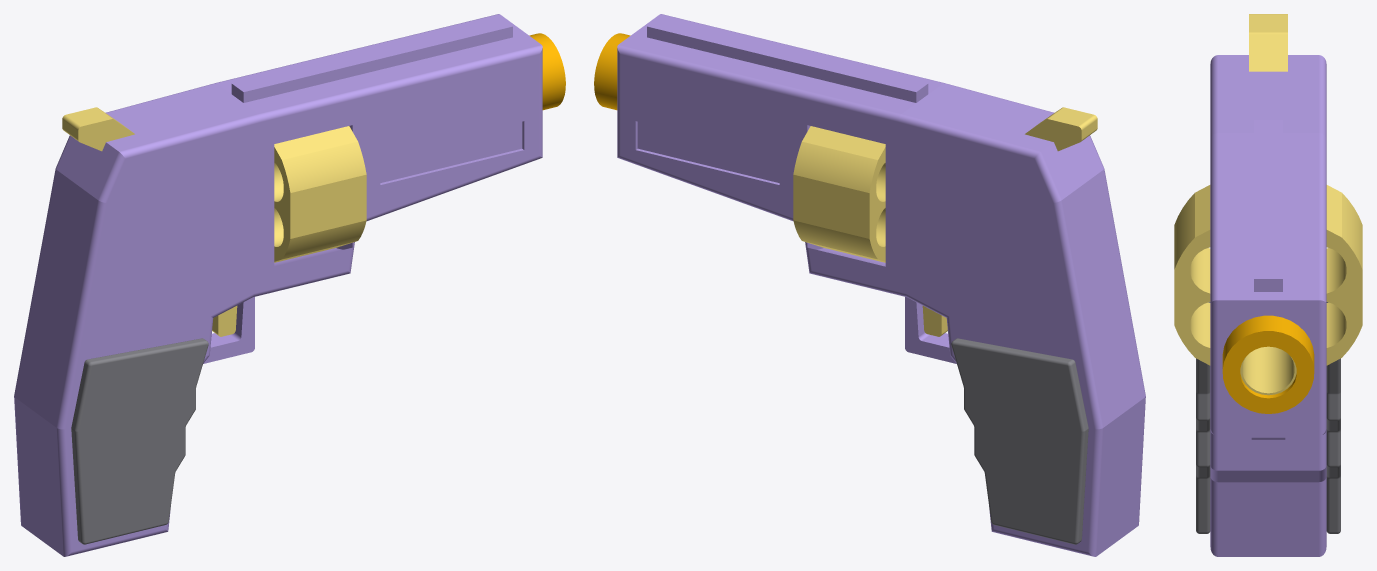
3 renders of one model, left to right at view 1: azimuth 30°, elevation 25°; view 2: azimuth 150°, elevation 25°; view 3: azimuth 270°, elevation 25°, orthographic. The views are drawn at different scales.
Visible parts, largest first — view 1: telaio, =>[0:1:1:11], =>[0:1:1:3], =>[0:1:1:15], =>[0:1:1:13], =>[0:1:1:19]; view 2: telaio, =>[0:1:1:8], =>[0:1:1:3], =>[0:1:1:15], =>[0:1:1:13], =>[0:1:1:19]; view 3: telaio, =>[0:1:1:3], =>[0:1:1:19], =>[0:1:1:8], =>[0:1:1:11], =>[0:1:1:15], =>[0:1:1:5].
Boxes of the visible parts, box(x1,y1,x2,y2) form: telaio: box(14, 14, 542, 556); =>[0:1:1:11]: box(71, 338, 208, 544); =>[0:1:1:3]: box(274, 126, 366, 262); =>[0:1:1:15]: box(62, 107, 134, 151); =>[0:1:1:13]: box(203, 297, 254, 363); =>[0:1:1:19]: box(529, 33, 565, 110); telaio: box(617, 14, 1145, 556); =>[0:1:1:8]: box(951, 338, 1088, 544); =>[0:1:1:3]: box(793, 126, 885, 262); =>[0:1:1:15]: box(1025, 107, 1097, 151); =>[0:1:1:13]: box(905, 297, 956, 363); =>[0:1:1:19]: box(594, 33, 630, 110); telaio: box(1210, 55, 1326, 556); =>[0:1:1:3]: box(1174, 185, 1362, 365); =>[0:1:1:19]: box(1222, 315, 1314, 413); =>[0:1:1:8]: box(1326, 302, 1340, 533); =>[0:1:1:11]: box(1196, 302, 1210, 533); =>[0:1:1:15]: box(1249, 14, 1287, 71); =>[0:1:1:5]: box(1240, 346, 1296, 395).
Size of the model in its own units: 148 by 114 by 38.95.
